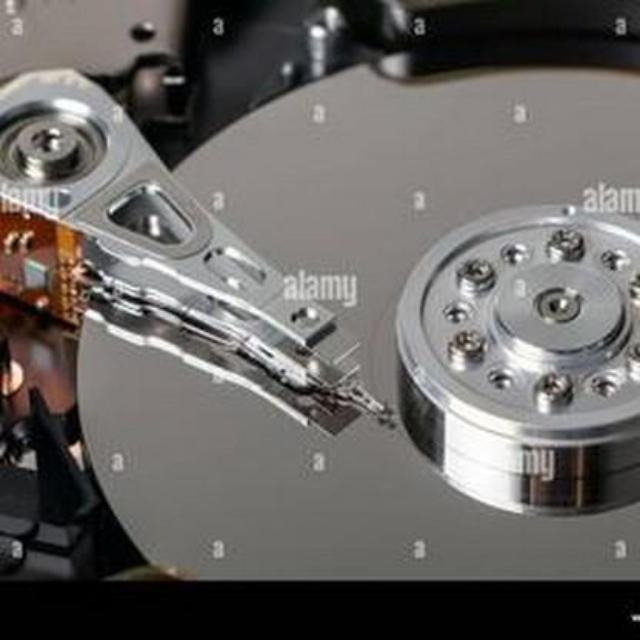DISK: (0, 5, 640, 582)
